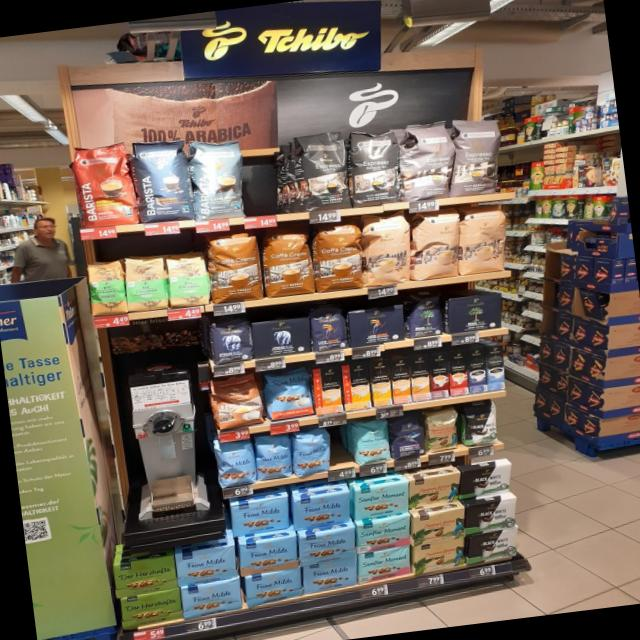AB Bohne: (207, 315, 255, 365)
AB Gemahlen: (250, 314, 312, 360)
Athiopien Bohne: (84, 256, 130, 318)
Athiopien Gemahlen: (162, 250, 212, 310), (122, 252, 170, 314)
BM Bohne: (402, 288, 444, 339)
BM Gemahlen: (447, 292, 503, 334)
BW Bohne: (457, 398, 501, 448)
BW Gemahlen: (464, 525, 519, 565), (458, 462, 513, 500), (464, 496, 517, 534)
Barista CC: (185, 134, 249, 224)
Barista Kolumbien: (66, 138, 140, 232), (127, 134, 196, 227)
C Fino Bohne: (388, 412, 428, 458)
CC Mild: (356, 209, 411, 287), (457, 202, 507, 277), (410, 207, 460, 282)
CC Vollmundig: (206, 371, 268, 431)
CC Vollmundig 36 Pads: (203, 228, 266, 306), (256, 222, 316, 300), (306, 218, 366, 294)
Colombia BB Bohne: (423, 406, 462, 452)
Colombia BB Gemahlen: (412, 507, 465, 546), (408, 471, 460, 509), (411, 536, 465, 572)
Espresso Kraftig: (289, 129, 353, 215)
Espresso M Art: (440, 111, 514, 200), (392, 116, 464, 204)
Espresso S Art: (344, 122, 404, 208)
FM 36 Pads: (260, 364, 316, 422)
FM Bohne: (211, 434, 258, 488), (288, 427, 336, 476), (252, 429, 294, 482)
FM Gemahlen: (172, 543, 240, 585), (180, 577, 243, 620), (243, 566, 304, 608), (229, 495, 290, 537), (238, 535, 299, 576), (300, 555, 359, 595), (292, 490, 351, 530), (297, 526, 356, 564)
Herzhatfe Mundig: (111, 554, 178, 598), (119, 587, 182, 629)
LG Bohne: (307, 302, 350, 353)
LG Gemahlen: (346, 303, 407, 347)
SM Bohne: (348, 416, 392, 466)
SM Gemahlen: (354, 479, 410, 521), (355, 514, 410, 554), (356, 545, 412, 584)
Simo CCMild: (338, 360, 372, 410)
Simo CCMild bigpack: (366, 357, 394, 407)
Simo CCVollmundig: (308, 363, 344, 415)
Simo CCVollmundig bigpack: (386, 356, 413, 404)
Simo Decaff: (406, 353, 432, 402)
Simo Es Elegant: (446, 348, 470, 396)
Simo Es Kraft: (426, 351, 452, 399)
Simo Kaffee Kraft: (464, 346, 489, 394)
Simo Kaffee Mild: (483, 343, 509, 392)
